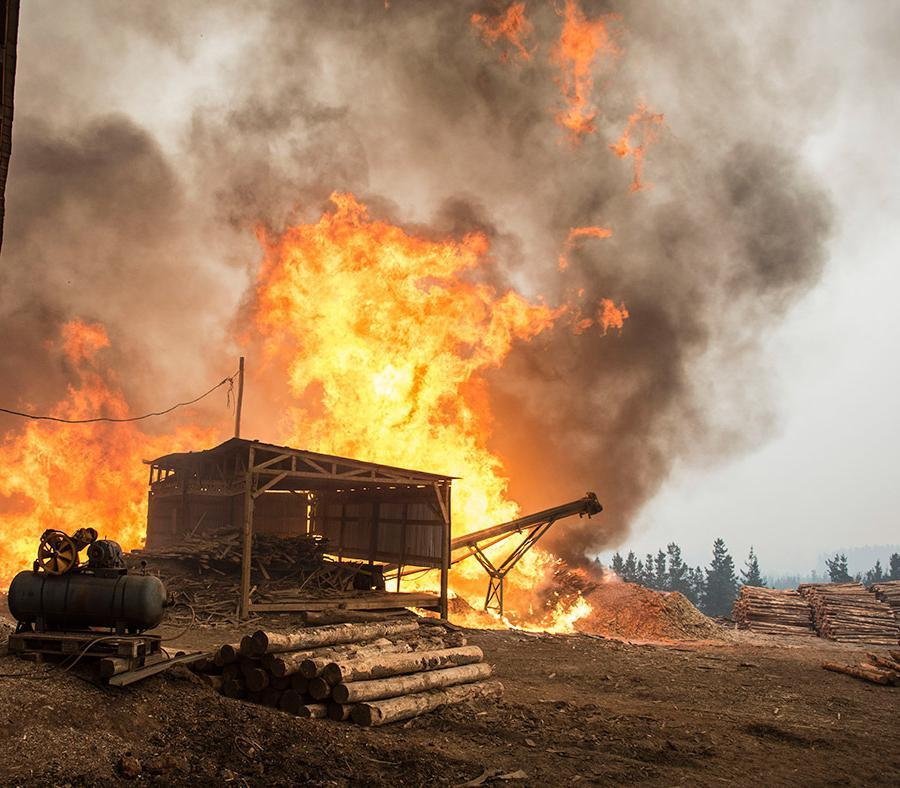Fire: (244, 193, 661, 588), (4, 288, 227, 589), (461, 6, 677, 202), (448, 596, 591, 631)
